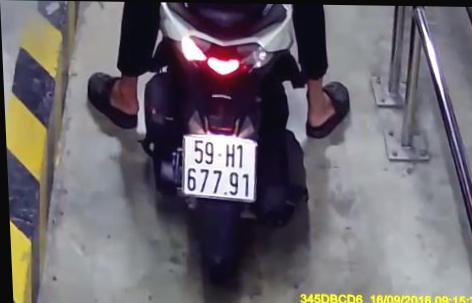License_Plate: (172, 125, 269, 210)
